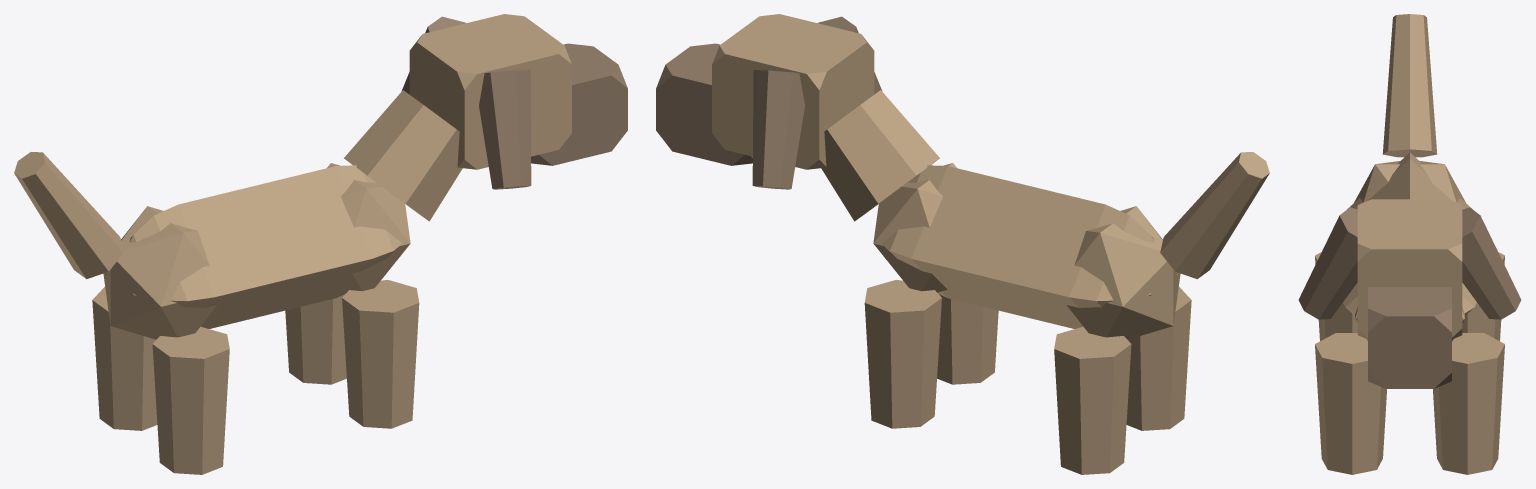
3 views of the same model, side by side, from view 1: azimuth 30°, elevation 25°; view 2: azimuth 150°, elevation 25°; view 3: azimuth 270°, elevation 25° (orthographic). The views are drawn at different scales.
Visible parts, largest first — view 1: part0, part4, part10, part12, part1, part3, part8, part11, part5, part7, part9, part2; view 2: part0, part4, part9, part11, part1, part3, part8, part12, part5, part6, part10, part2; view 3: part4, part5, part9, part10, part8, part6, part7, part0, part1, part11, part12.
Part boxes in pixels (box(x1,y1,x2,y2)): part0: box(106, 165, 402, 328); part4: box(409, 14, 571, 169); part10: box(342, 280, 419, 428); part12: box(152, 326, 229, 474); part1: box(103, 206, 216, 339); part3: box(344, 90, 462, 221); part8: box(14, 152, 123, 279); part11: box(92, 287, 157, 430); part5: box(531, 43, 627, 165); part7: box(479, 70, 531, 189); part9: box(285, 294, 346, 384); part2: box(327, 163, 410, 292); part0: box(881, 165, 1177, 328); part4: box(712, 14, 874, 169); part9: box(864, 280, 941, 428); part11: box(1054, 326, 1131, 474); part1: box(1067, 206, 1180, 339); part3: box(821, 90, 939, 221); part8: box(1160, 152, 1269, 279); part12: box(1126, 287, 1191, 430); part5: box(656, 43, 752, 165); part6: box(752, 70, 804, 189); part10: box(937, 294, 998, 384); part2: box(873, 163, 956, 292); part4: box(1357, 199, 1462, 339); part5: box(1368, 287, 1451, 388); part9: box(1433, 333, 1504, 474); part10: box(1315, 333, 1386, 474); part8: box(1382, 14, 1437, 157); part6: box(1462, 207, 1521, 319); part7: box(1298, 207, 1357, 319); part0: box(1343, 153, 1476, 315); part1: box(1354, 161, 1465, 202); part11: box(1462, 252, 1504, 340); part12: box(1315, 252, 1357, 340).
Bounding box in the file's own units: 3.72 × 1.93 × 1.28.
